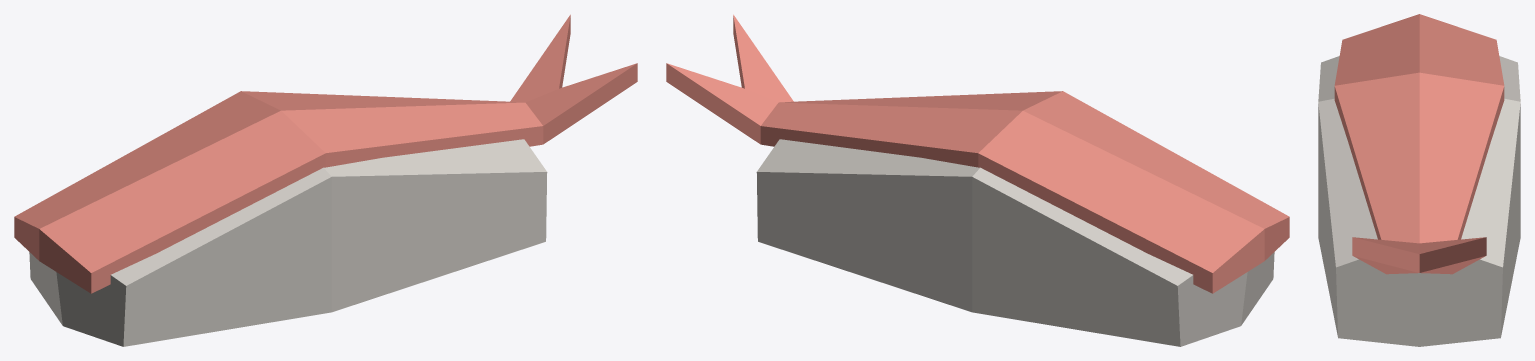
File: niguiriShrimp.fbx
The picture shows the model from 3 angles, left to right: view 1: azimuth 30°, elevation 25°; view 2: azimuth 150°, elevation 25°; view 3: azimuth 270°, elevation 25°; orthographic projection.
Parts seen in each view (by area): view 1: niguiriShrimp; view 2: niguiriShrimp; view 3: niguiriShrimp.
Boxes of the visible parts, <box> form: niguiriShrimp: <box>14,14,637,346</box>; niguiriShrimp: <box>666,14,1289,346</box>; niguiriShrimp: <box>1318,14,1520,346</box>.
Size of the model in its own units: 15.61 by 4.35 by 4.84.
Materials: 1 (1 with a texture image).
